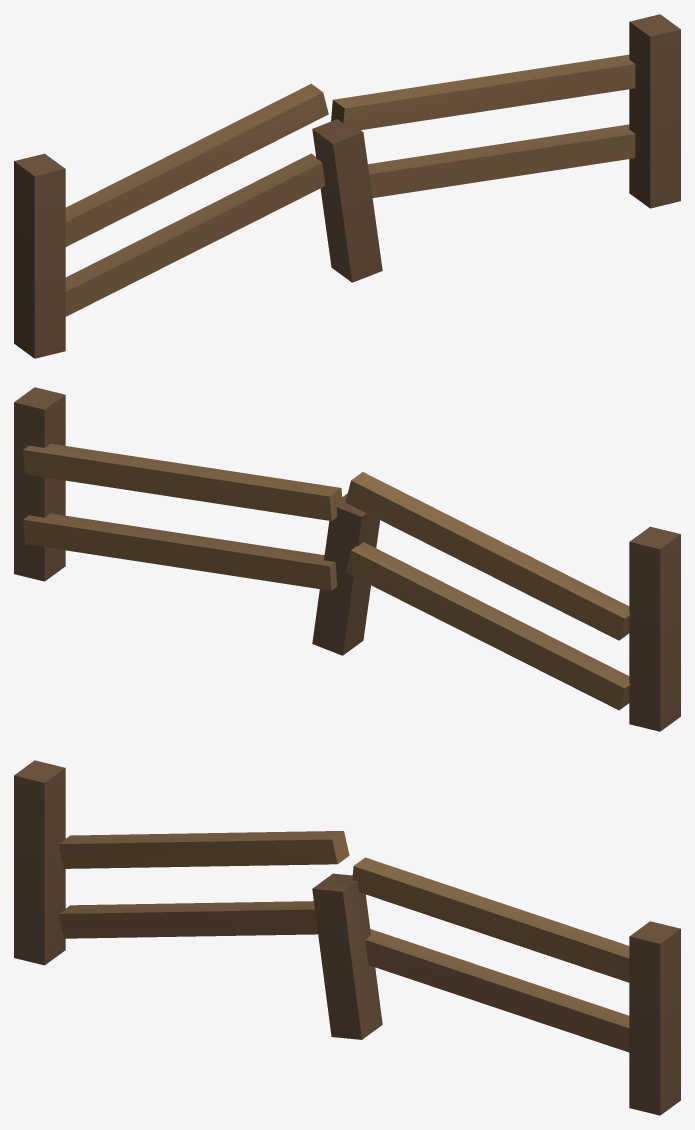
The model's file is AV_FenceBroken.glb.
3 renders of one model, top to bottom at view 1: azimuth 30°, elevation 25°; view 2: azimuth 150°, elevation 25°; view 3: azimuth 330°, elevation 25°, orthographic.
Visible parts, largest first — view 1: AV_FenceBroken__Body; view 2: AV_FenceBroken__Body; view 3: AV_FenceBroken__Body.
Boxes of the visible parts, <box> form: AV_FenceBroken__Body: <box>14,14,680,358</box>; AV_FenceBroken__Body: <box>14,387,680,731</box>; AV_FenceBroken__Body: <box>14,760,680,1115</box>.
Bounding box in the file's own units: 12.6 × 3.43 × 0.9.
